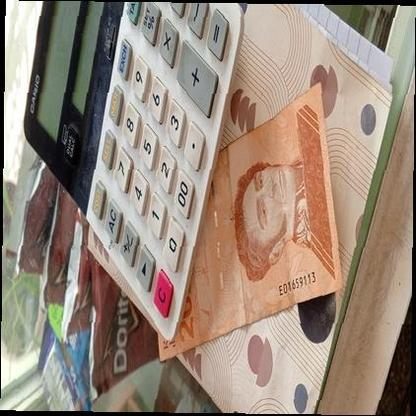twenty-front-vef: (156, 81, 344, 362)
